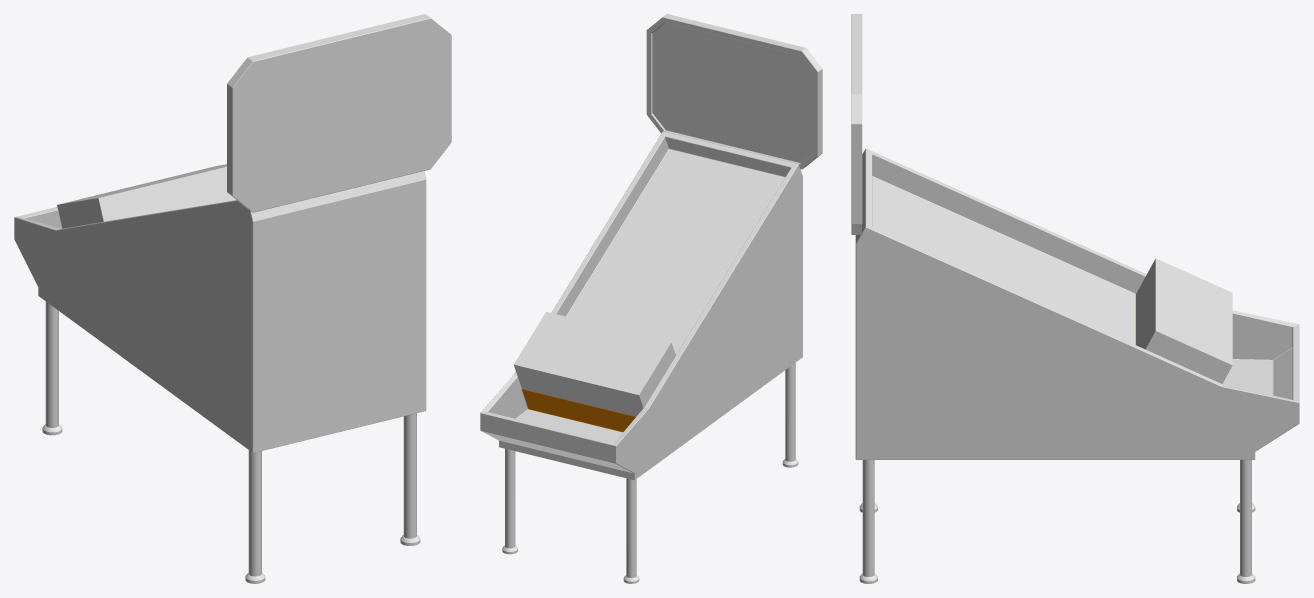
The model's file is ArcadeMachine-old.fbx.
3 renders of one model, left to right at view 1: azimuth 30°, elevation 25°; view 2: azimuth 150°, elevation 25°; view 3: azimuth 270°, elevation 25°, orthographic. The views are drawn at different scales.
Visible parts, largest first — view 1: Arcade, Sign, ActionArea, Leg.001, Leg, Leg.002; view 2: Arcade, Sign, ActionArea, Leg.002, Leg.003, Leg.001; view 3: Arcade, ActionArea, Sign, Leg, Leg.003.
Part boxes in pixels (x1,y1,x2,y2): Arcade: (14, 171, 426, 452); Sign: (227, 14, 451, 212); ActionArea: (57, 164, 235, 228); Leg.001: (245, 450, 265, 583); Leg: (400, 413, 420, 545); Leg.002: (42, 301, 62, 435); Arcade: (480, 131, 802, 480); Sign: (646, 14, 822, 169); ActionArea: (513, 312, 675, 416); Leg.002: (623, 478, 639, 583); Leg.003: (502, 449, 517, 554); Leg.001: (782, 363, 798, 467); Arcade: (855, 148, 1299, 459); ActionArea: (1136, 258, 1232, 383); Sign: (851, 14, 862, 234); Leg: (859, 460, 877, 583); Leg.003: (1237, 460, 1255, 583).
Size of what is drawn, in the model's own units: 106 by 244 by 202.
